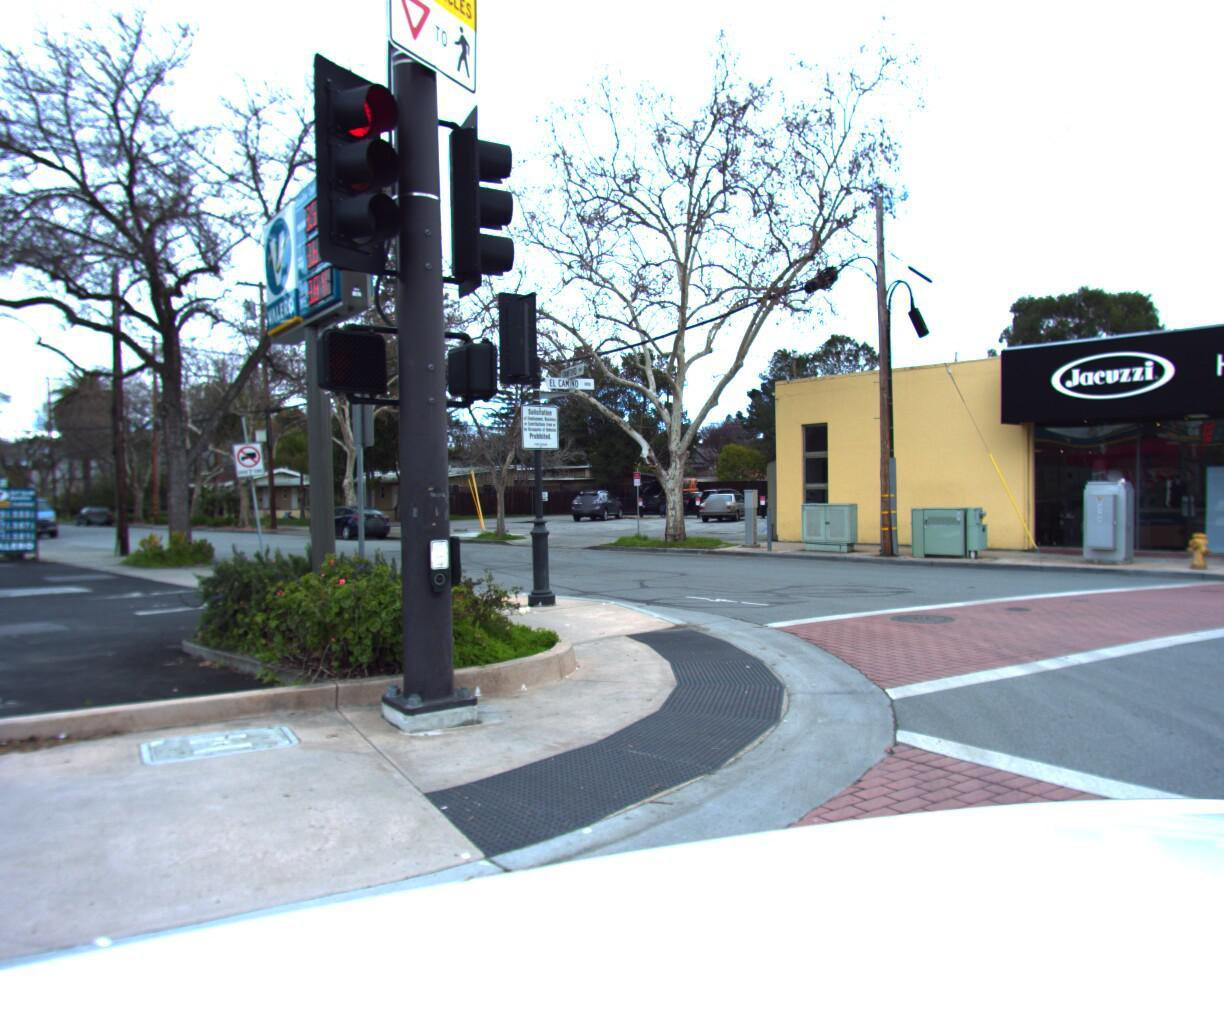car: (311, 507, 397, 546), (0, 499, 66, 548), (74, 509, 120, 530)
